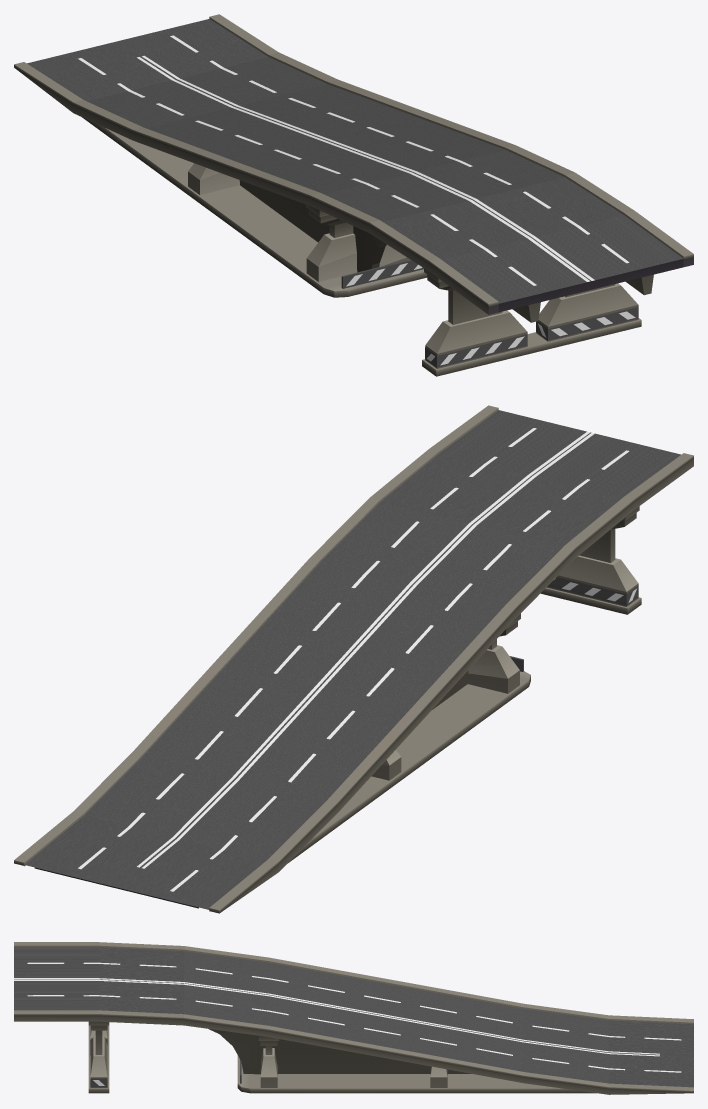
3 views of the same model, one above another, from view 1: azimuth 30°, elevation 25°; view 2: azimuth 150°, elevation 25°; view 3: azimuth 270°, elevation 25° (orthographic). The views are drawn at different scales.
Parts seen in each view (by area): view 1: Highway_1B; view 2: Highway_1B; view 3: Highway_1B.
Part boxes in pixels (x1,y1,x2,y2): Highway_1B: (14, 14, 693, 376); Highway_1B: (14, 405, 693, 913); Highway_1B: (14, 942, 693, 1094).
Size of the model in its own units: 24915 by 13080 by 99659.
